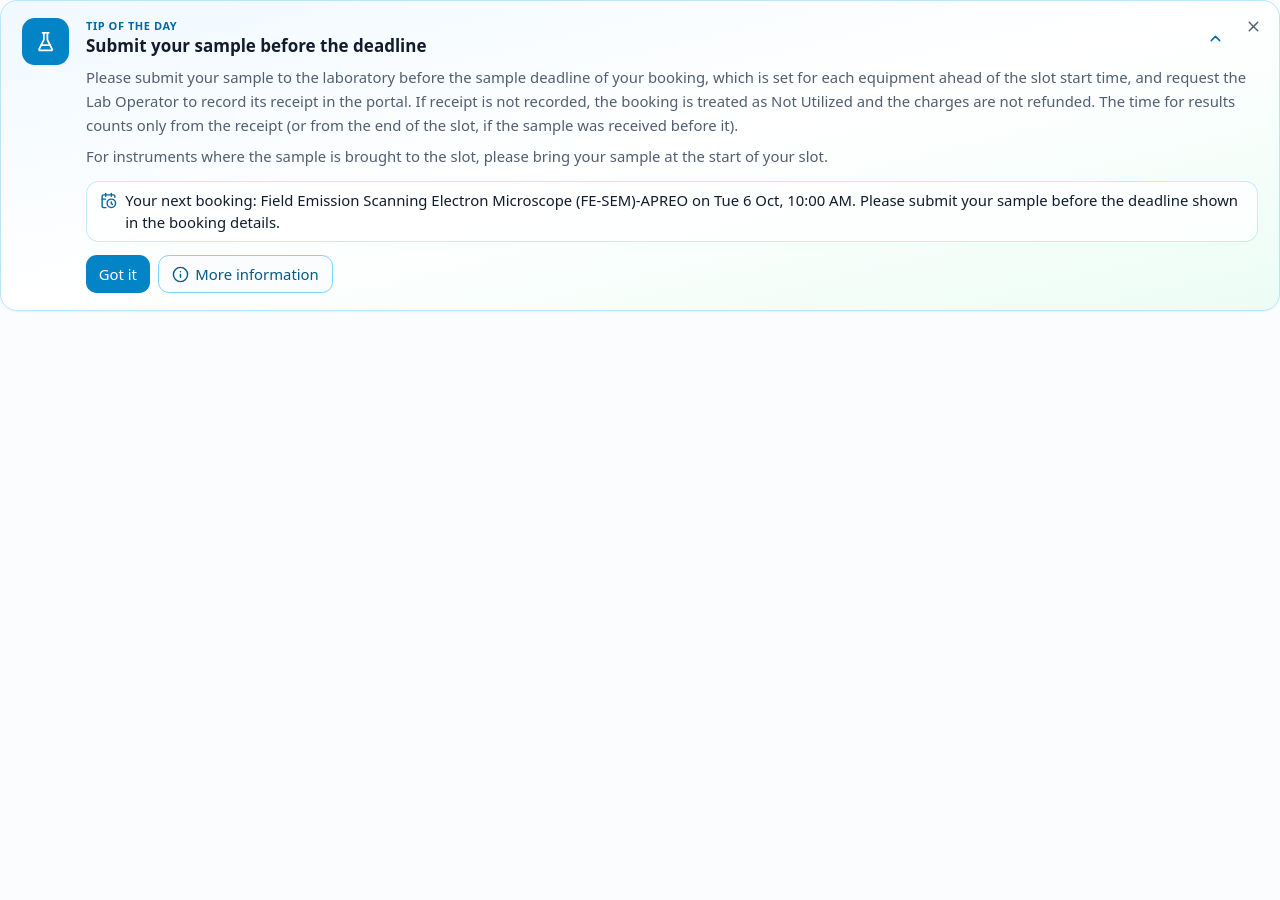
Test: LoginTipCard › explains that no advance deadline applies when the own booking is brought to the slot
Click the button "More information" at [245, 274], box left=158, top=255, right=332, bottom=293
(page scrolled)
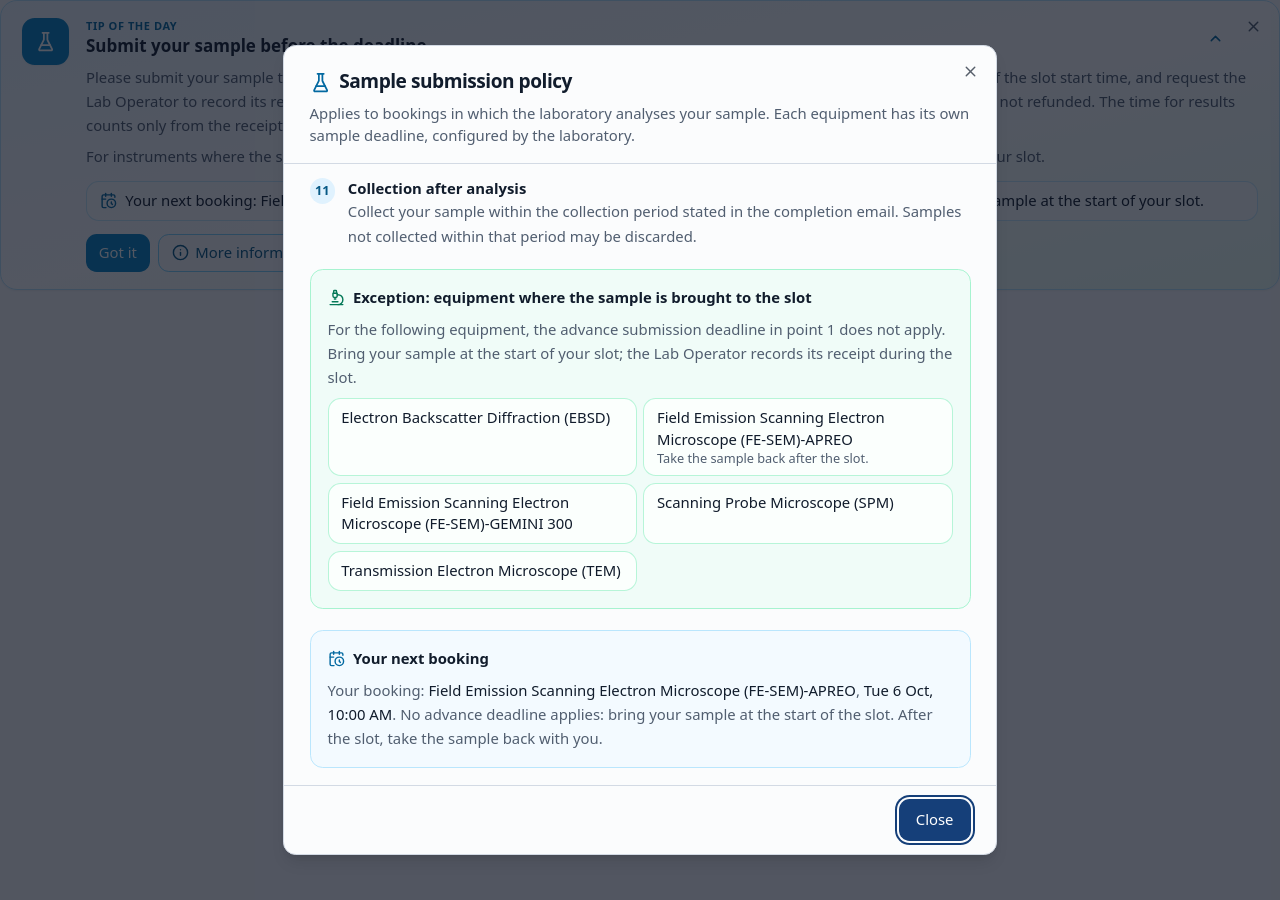
Expected: the element with test id "sample-policy-example" shows "No advance deadline applies: bring your sample at the start of the slot. After the slot, take the sample back with you.", left=328, top=678, right=952, bottom=750
